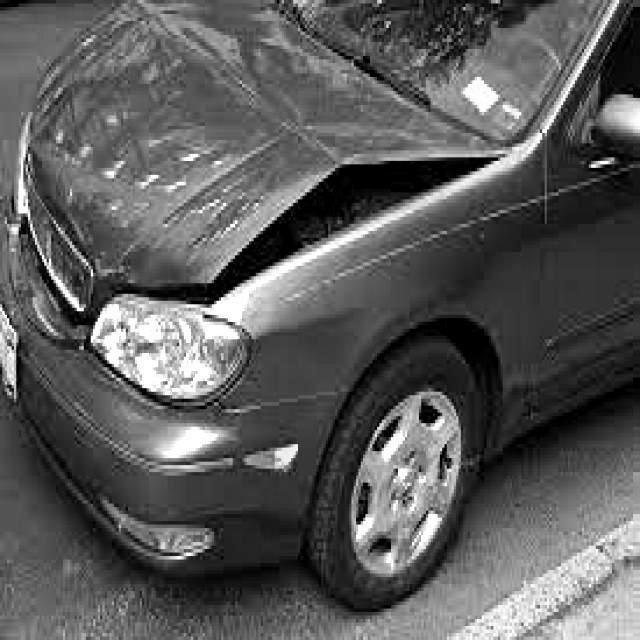bonnet-dent: (49, 8, 449, 291)
